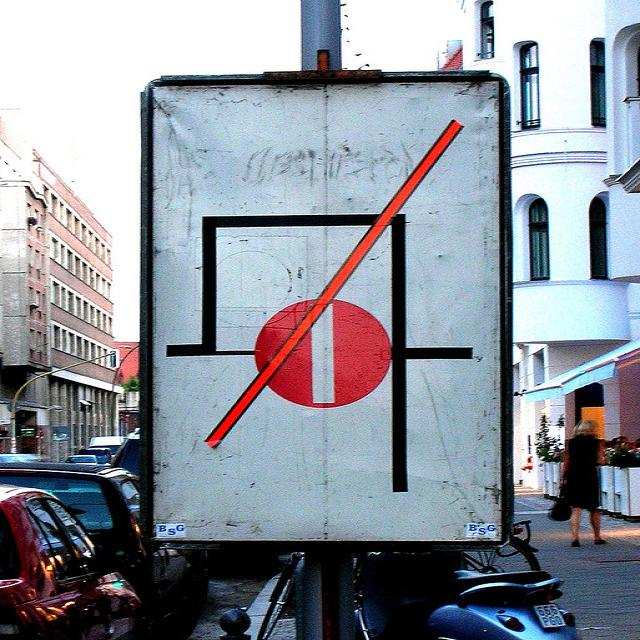motor: (259, 554, 581, 640)
